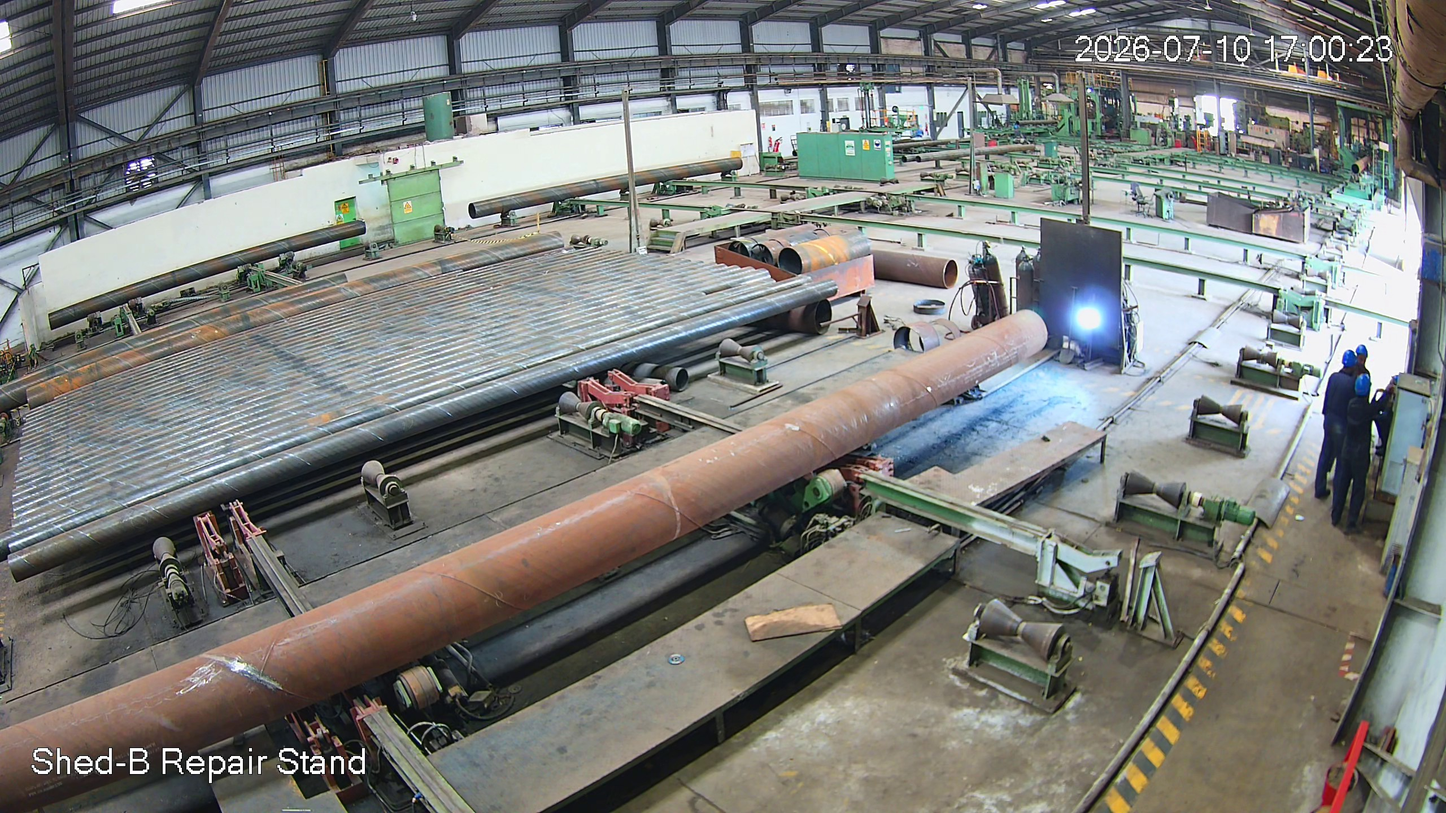Helmet: (1336, 346, 1370, 385), (1355, 373, 1377, 403)
Person: (1310, 351, 1359, 528), (1343, 375, 1376, 531)
